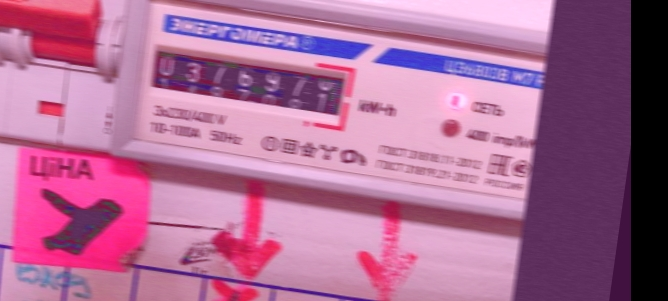0: (157, 54, 175, 78)
1: (314, 91, 326, 114)
3: (184, 61, 200, 84)
6: (236, 64, 254, 89)
7: (210, 62, 227, 86), (290, 73, 307, 97)
9: (263, 70, 280, 94)
screen: (137, 35, 358, 136)
